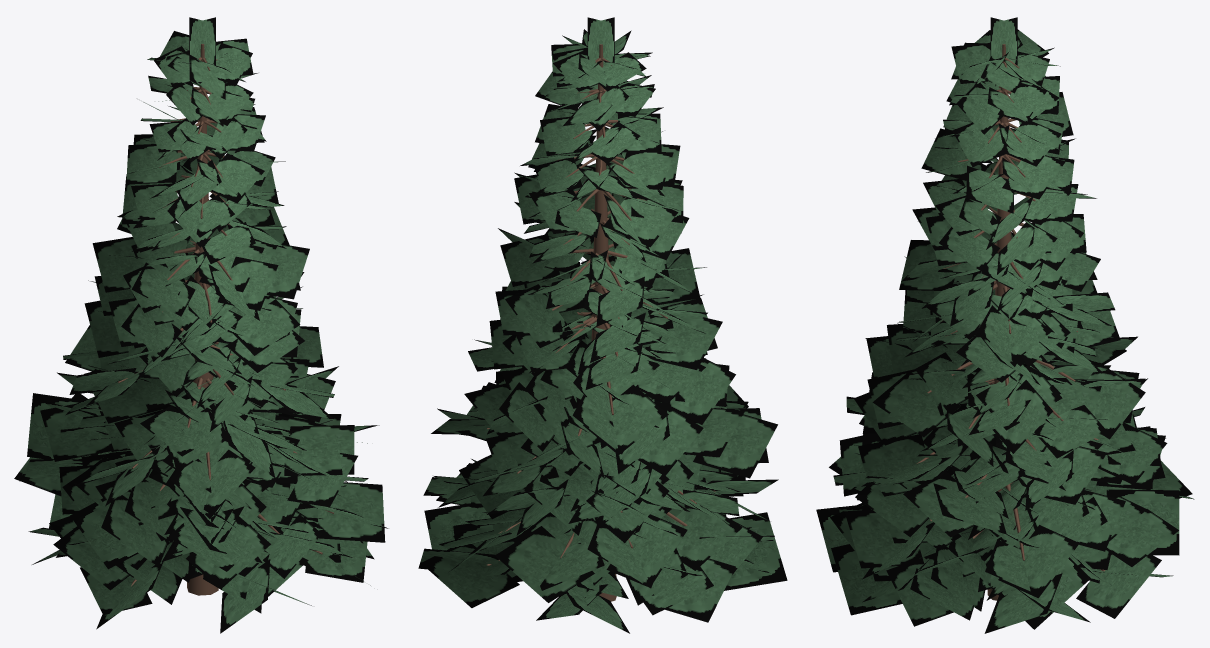
Rendered from pine_3.glb.
The picture shows the model from 3 angles, left to right: view 1: azimuth 30°, elevation 25°; view 2: azimuth 150°, elevation 25°; view 3: azimuth 270°, elevation 25°; orthographic projection.
Visible parts, largest first — view 1: pine_3; view 2: pine_3; view 3: pine_3.
Part boxes in pixels (bbox=[...]): pine_3: bbox=[14, 17, 388, 633]; pine_3: bbox=[418, 17, 787, 633]; pine_3: bbox=[816, 17, 1194, 633].
Size of the model in its own units: 7.18 by 12.23 by 7.32.
2 materials, 1 textured.
